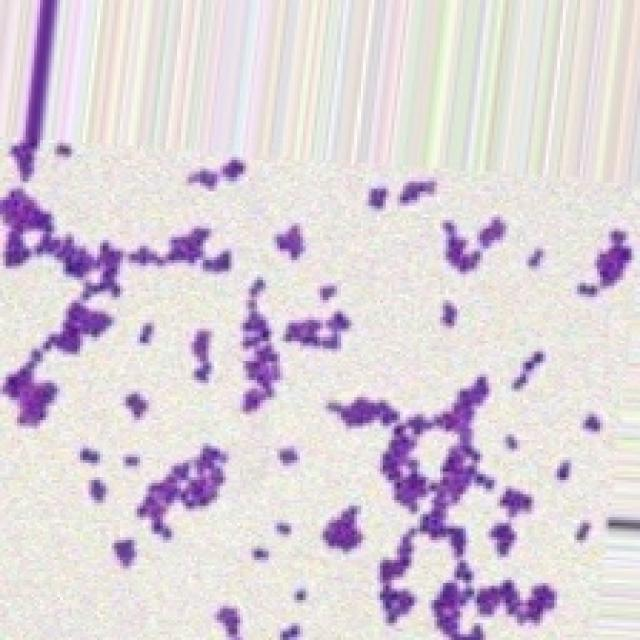Spherical_bacteria: (0, 132, 637, 637)
